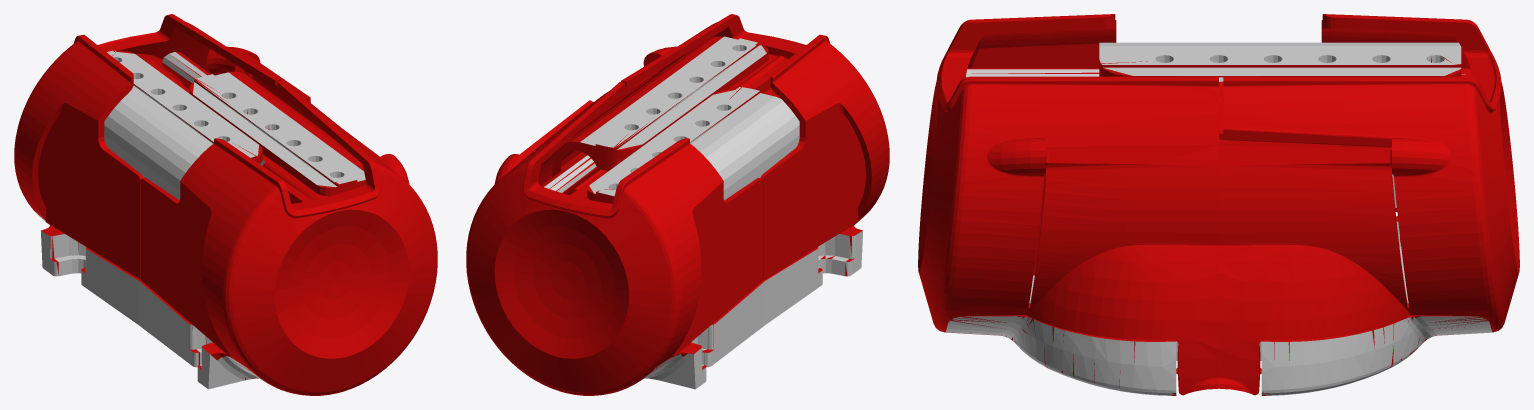
The model's file is electric_gripper_base.DAE.
3 views of the same model, side by side, from view 1: azimuth 30°, elevation 25°; view 2: azimuth 150°, elevation 25°; view 3: azimuth 270°, elevation 25° (orthographic). The views are drawn at different scales.
Parts seen in each view (by area): view 1: _0031555; view 2: _0031555; view 3: _0031555.
Boxes of the visible parts, x1,y1,x2,y2 form: _0031555: (14, 14, 437, 395); _0031555: (466, 14, 889, 395); _0031555: (918, 14, 1519, 395).
Size of the model in its own units: 0.0659 by 0.0534 by 0.1055.
